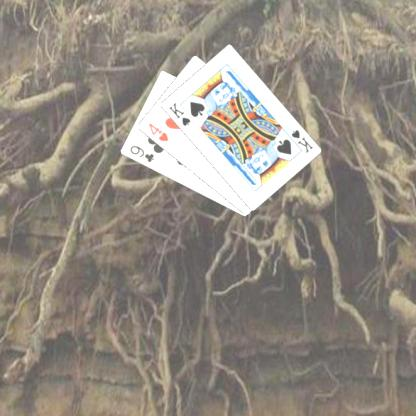4H: (145, 120, 170, 143)
9C: (127, 143, 155, 164)
KS: (283, 126, 314, 155), (165, 100, 192, 127)
